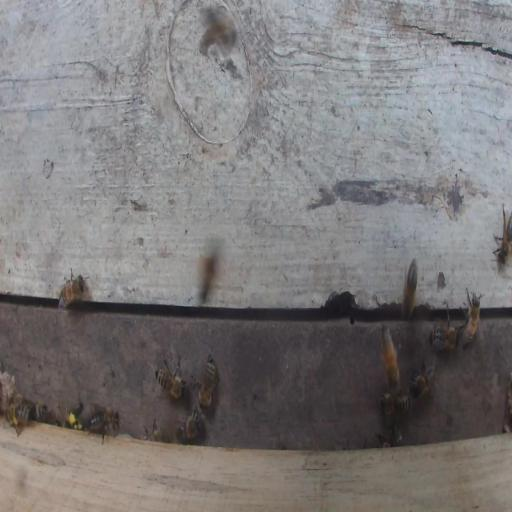bee: (378, 322, 402, 390), (428, 303, 461, 352), (156, 354, 188, 400), (461, 286, 483, 350), (58, 266, 90, 309), (87, 406, 120, 444), (196, 354, 218, 410), (201, 14, 235, 49), (492, 204, 511, 266), (175, 406, 204, 443), (409, 361, 436, 400), (195, 252, 216, 302), (402, 258, 417, 321), (379, 391, 410, 417), (375, 426, 403, 448), (5, 403, 30, 426), (143, 418, 161, 441), (28, 403, 49, 421)
